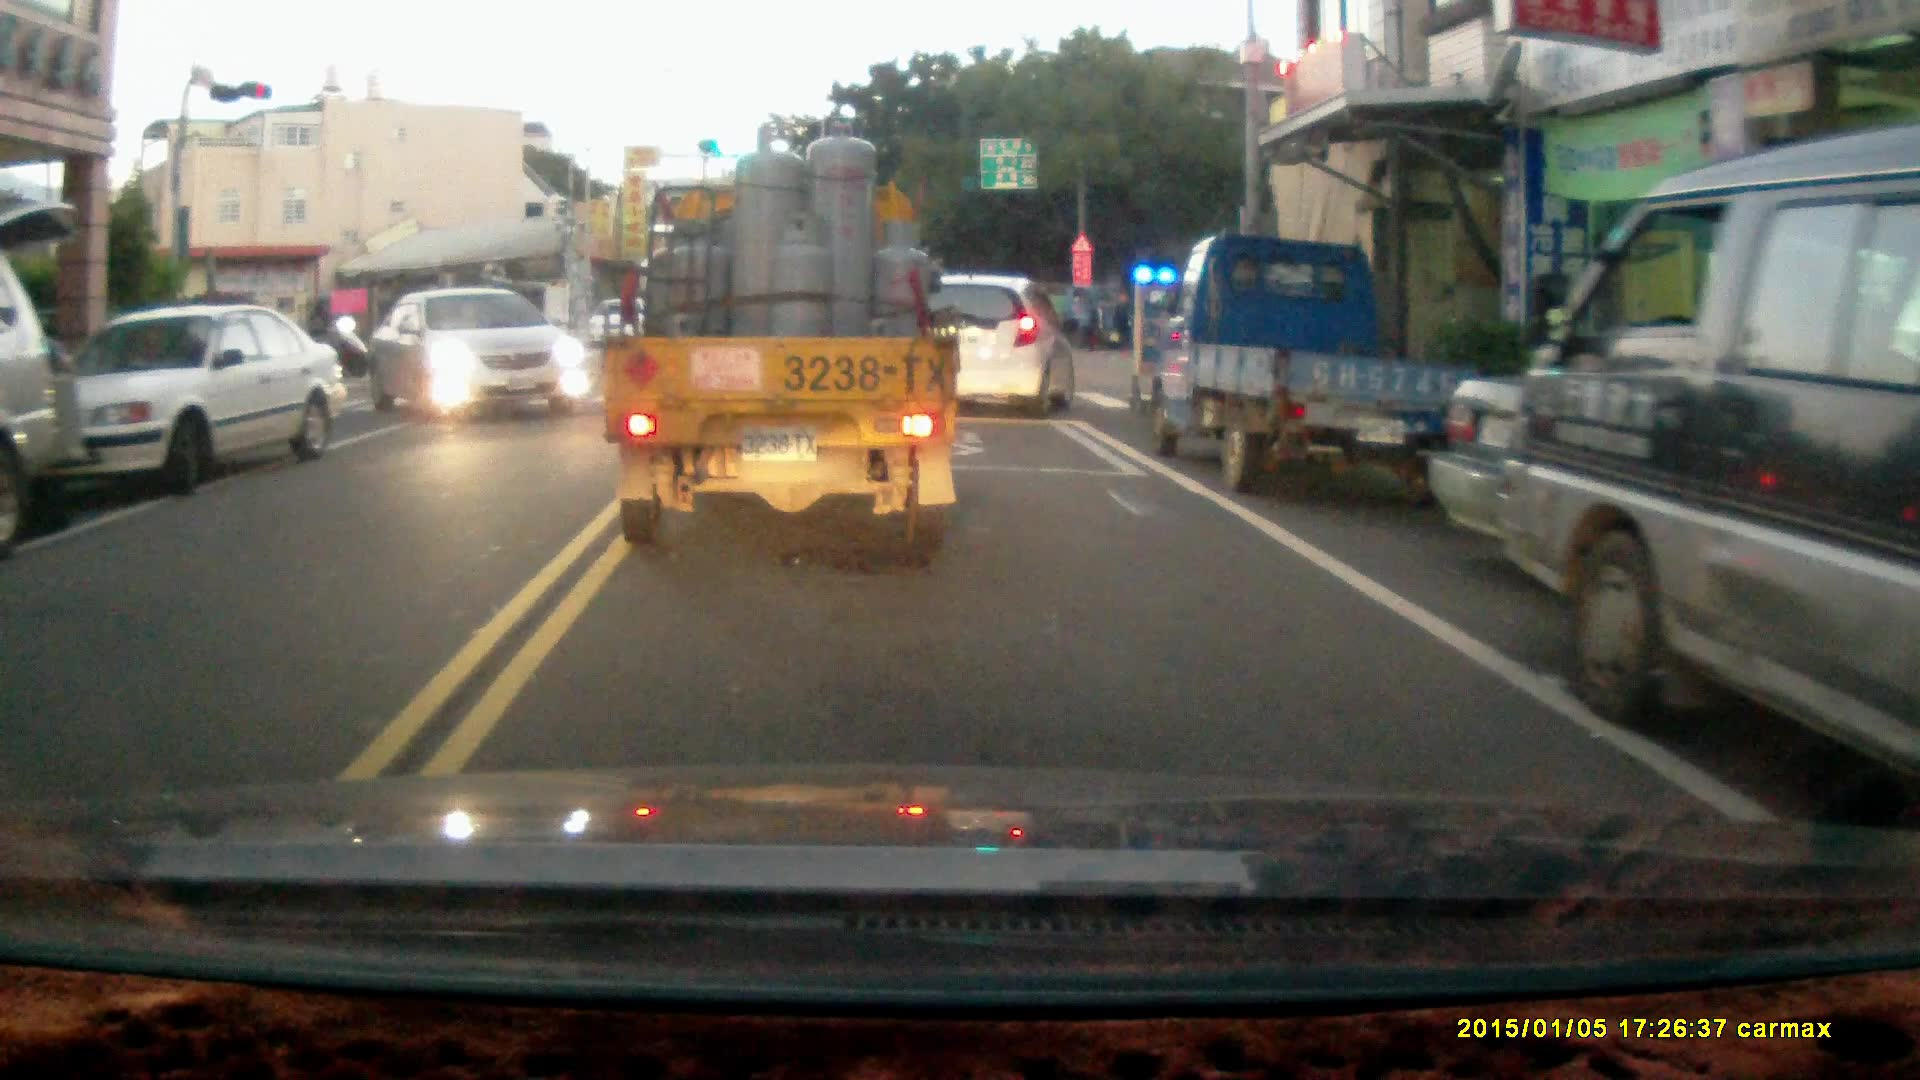rider: (287, 295, 371, 380)
vehicle: (1499, 127, 1920, 816), (600, 117, 965, 556), (1149, 233, 1473, 505), (36, 306, 356, 494), (370, 288, 597, 418), (909, 270, 1080, 413)
